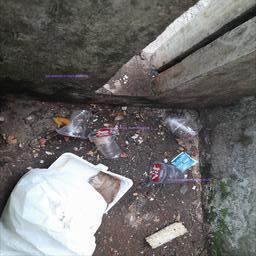plastic: (58, 111, 122, 159), (165, 117, 198, 138), (151, 165, 184, 184)
